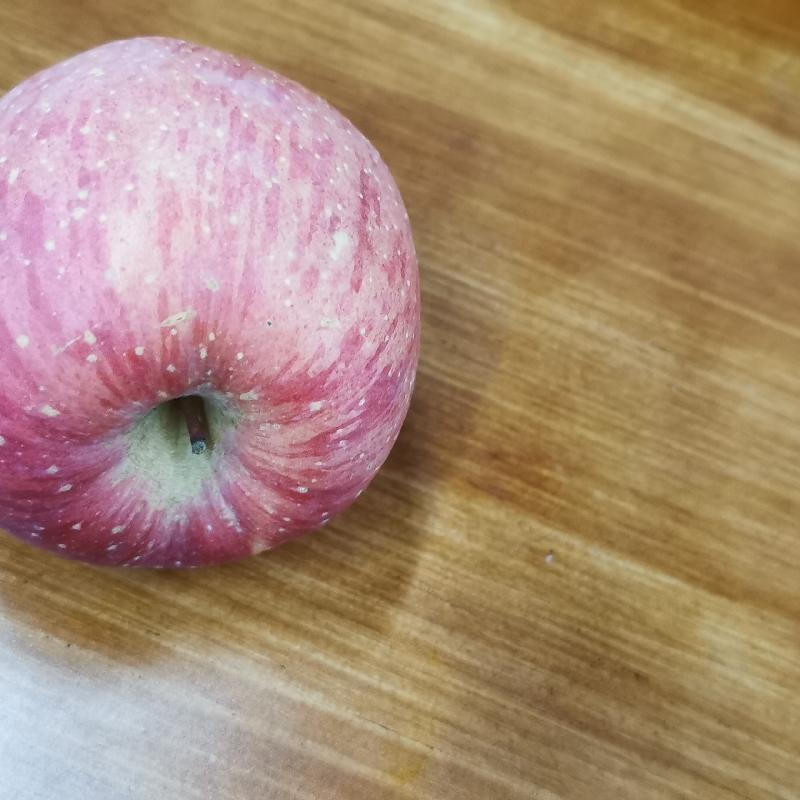apples: (6, 30, 427, 579)
